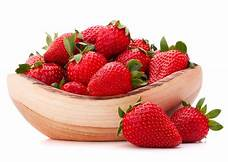Fresa: (119, 99, 185, 153), (166, 102, 214, 147), (86, 60, 136, 99), (146, 46, 190, 85), (43, 31, 86, 65), (64, 49, 108, 82), (94, 21, 132, 58)
